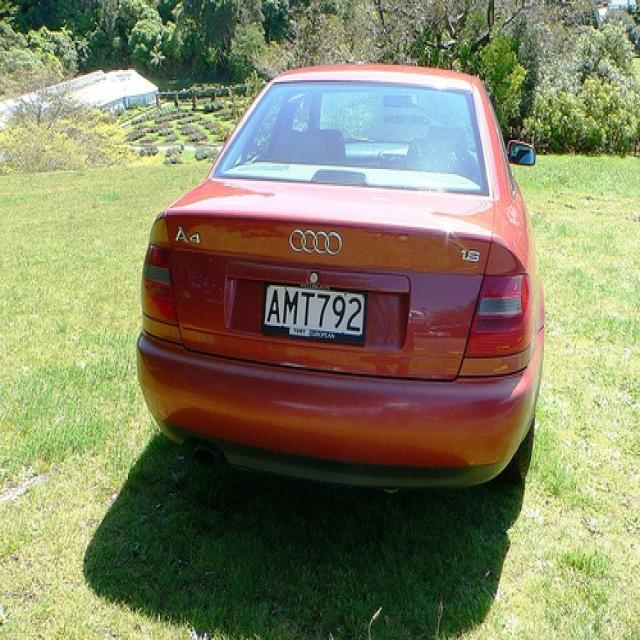car: (138, 61, 538, 495)
